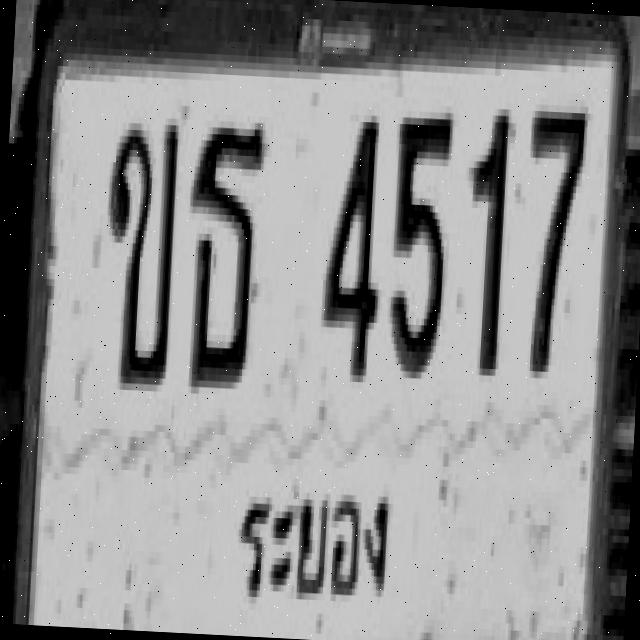1: (461, 108, 512, 376)
11KhorKhai: (99, 116, 179, 386)
33ThorThong: (182, 120, 267, 390)
4: (318, 114, 388, 376)
5: (386, 107, 452, 376)
7: (518, 104, 587, 373)
Rayong: (226, 468, 400, 620)
